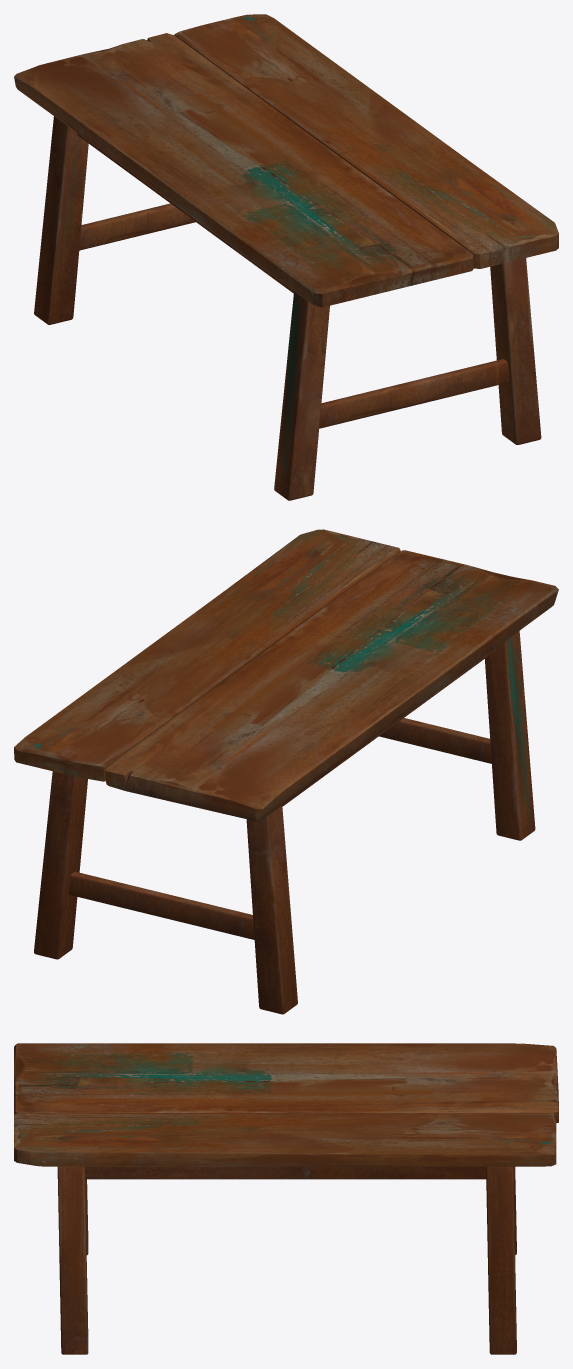
Rendered from wood_table.glb.
The picture shows the model from 3 angles, top to bottom: view 1: azimuth 30°, elevation 25°; view 2: azimuth 150°, elevation 25°; view 3: azimuth 270°, elevation 25°; orthographic projection. The views are drawn at different scales.
Bounding box in the file's own units: 0.6852 × 0.5886 × 1.43.
1 material, 1 textured.
